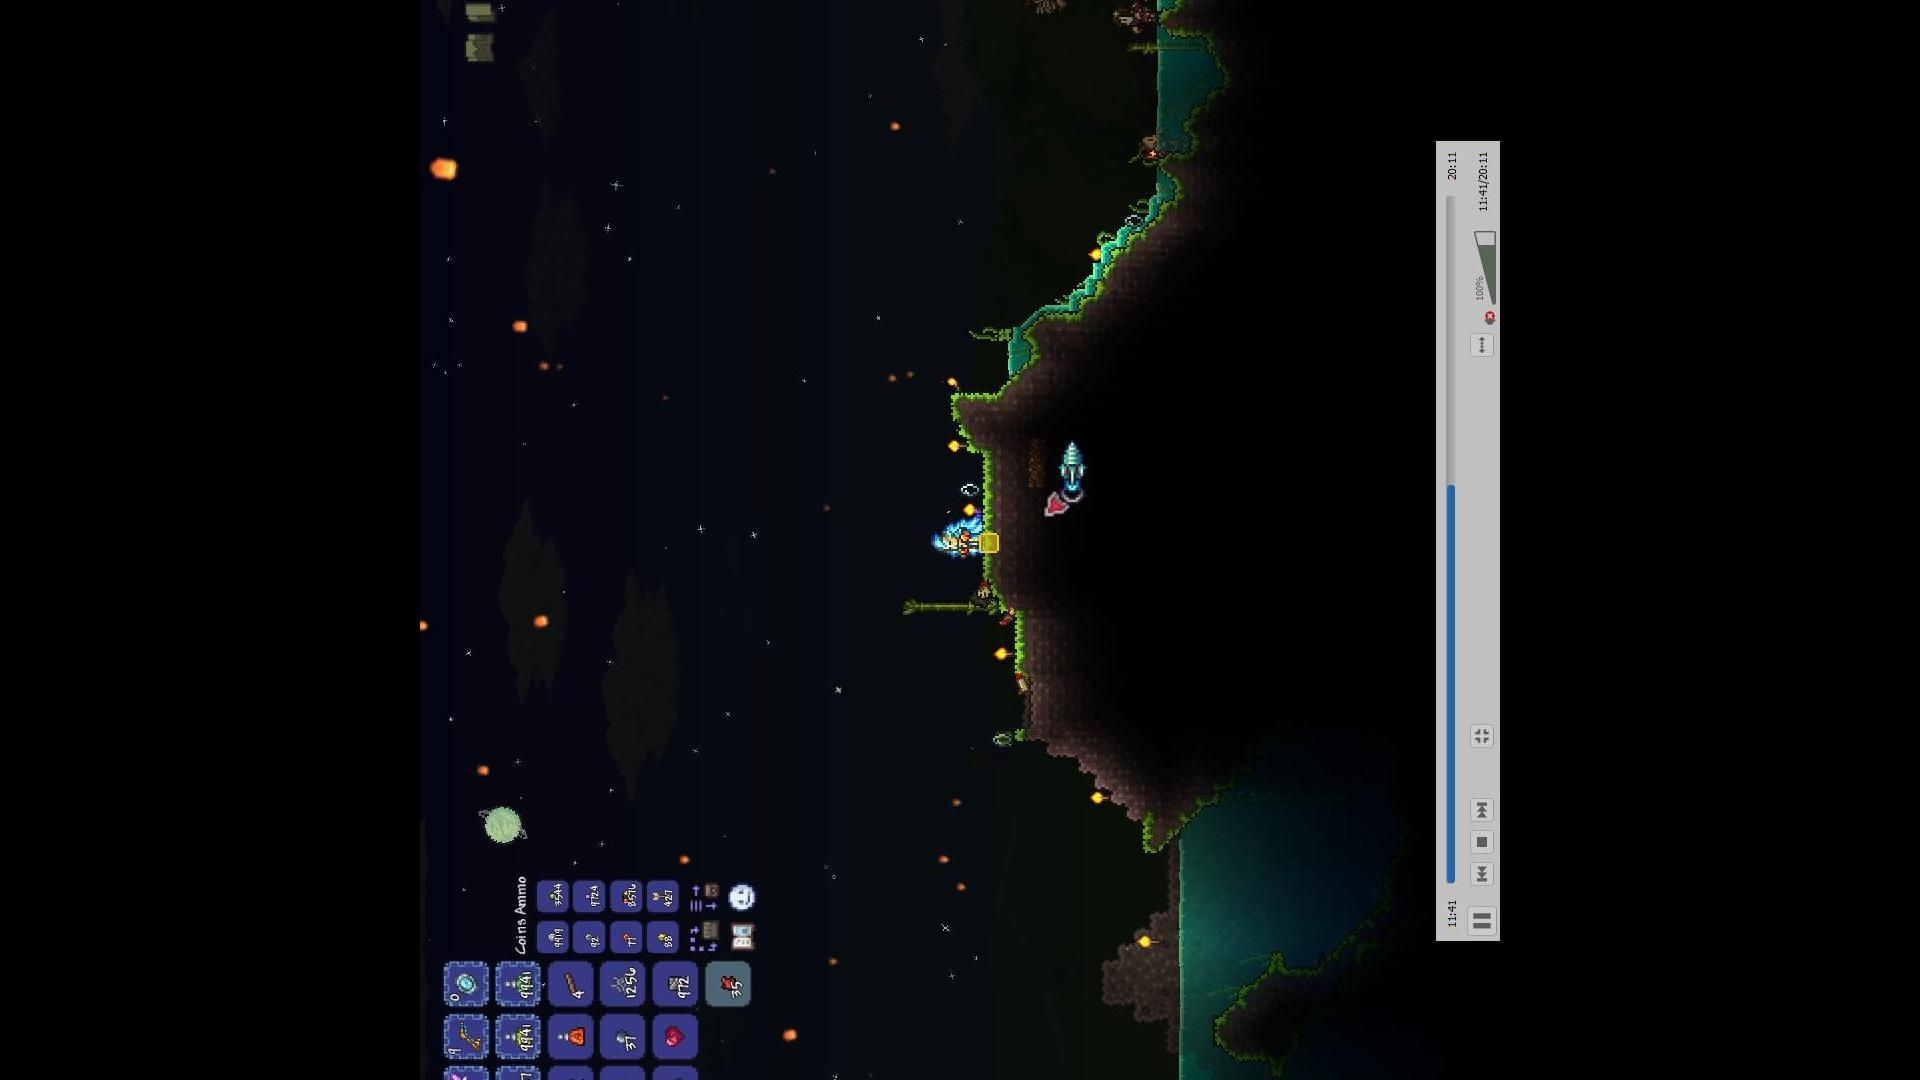lens: (956, 477, 982, 497), (990, 732, 1018, 748)
mirror: (450, 971, 479, 996)
